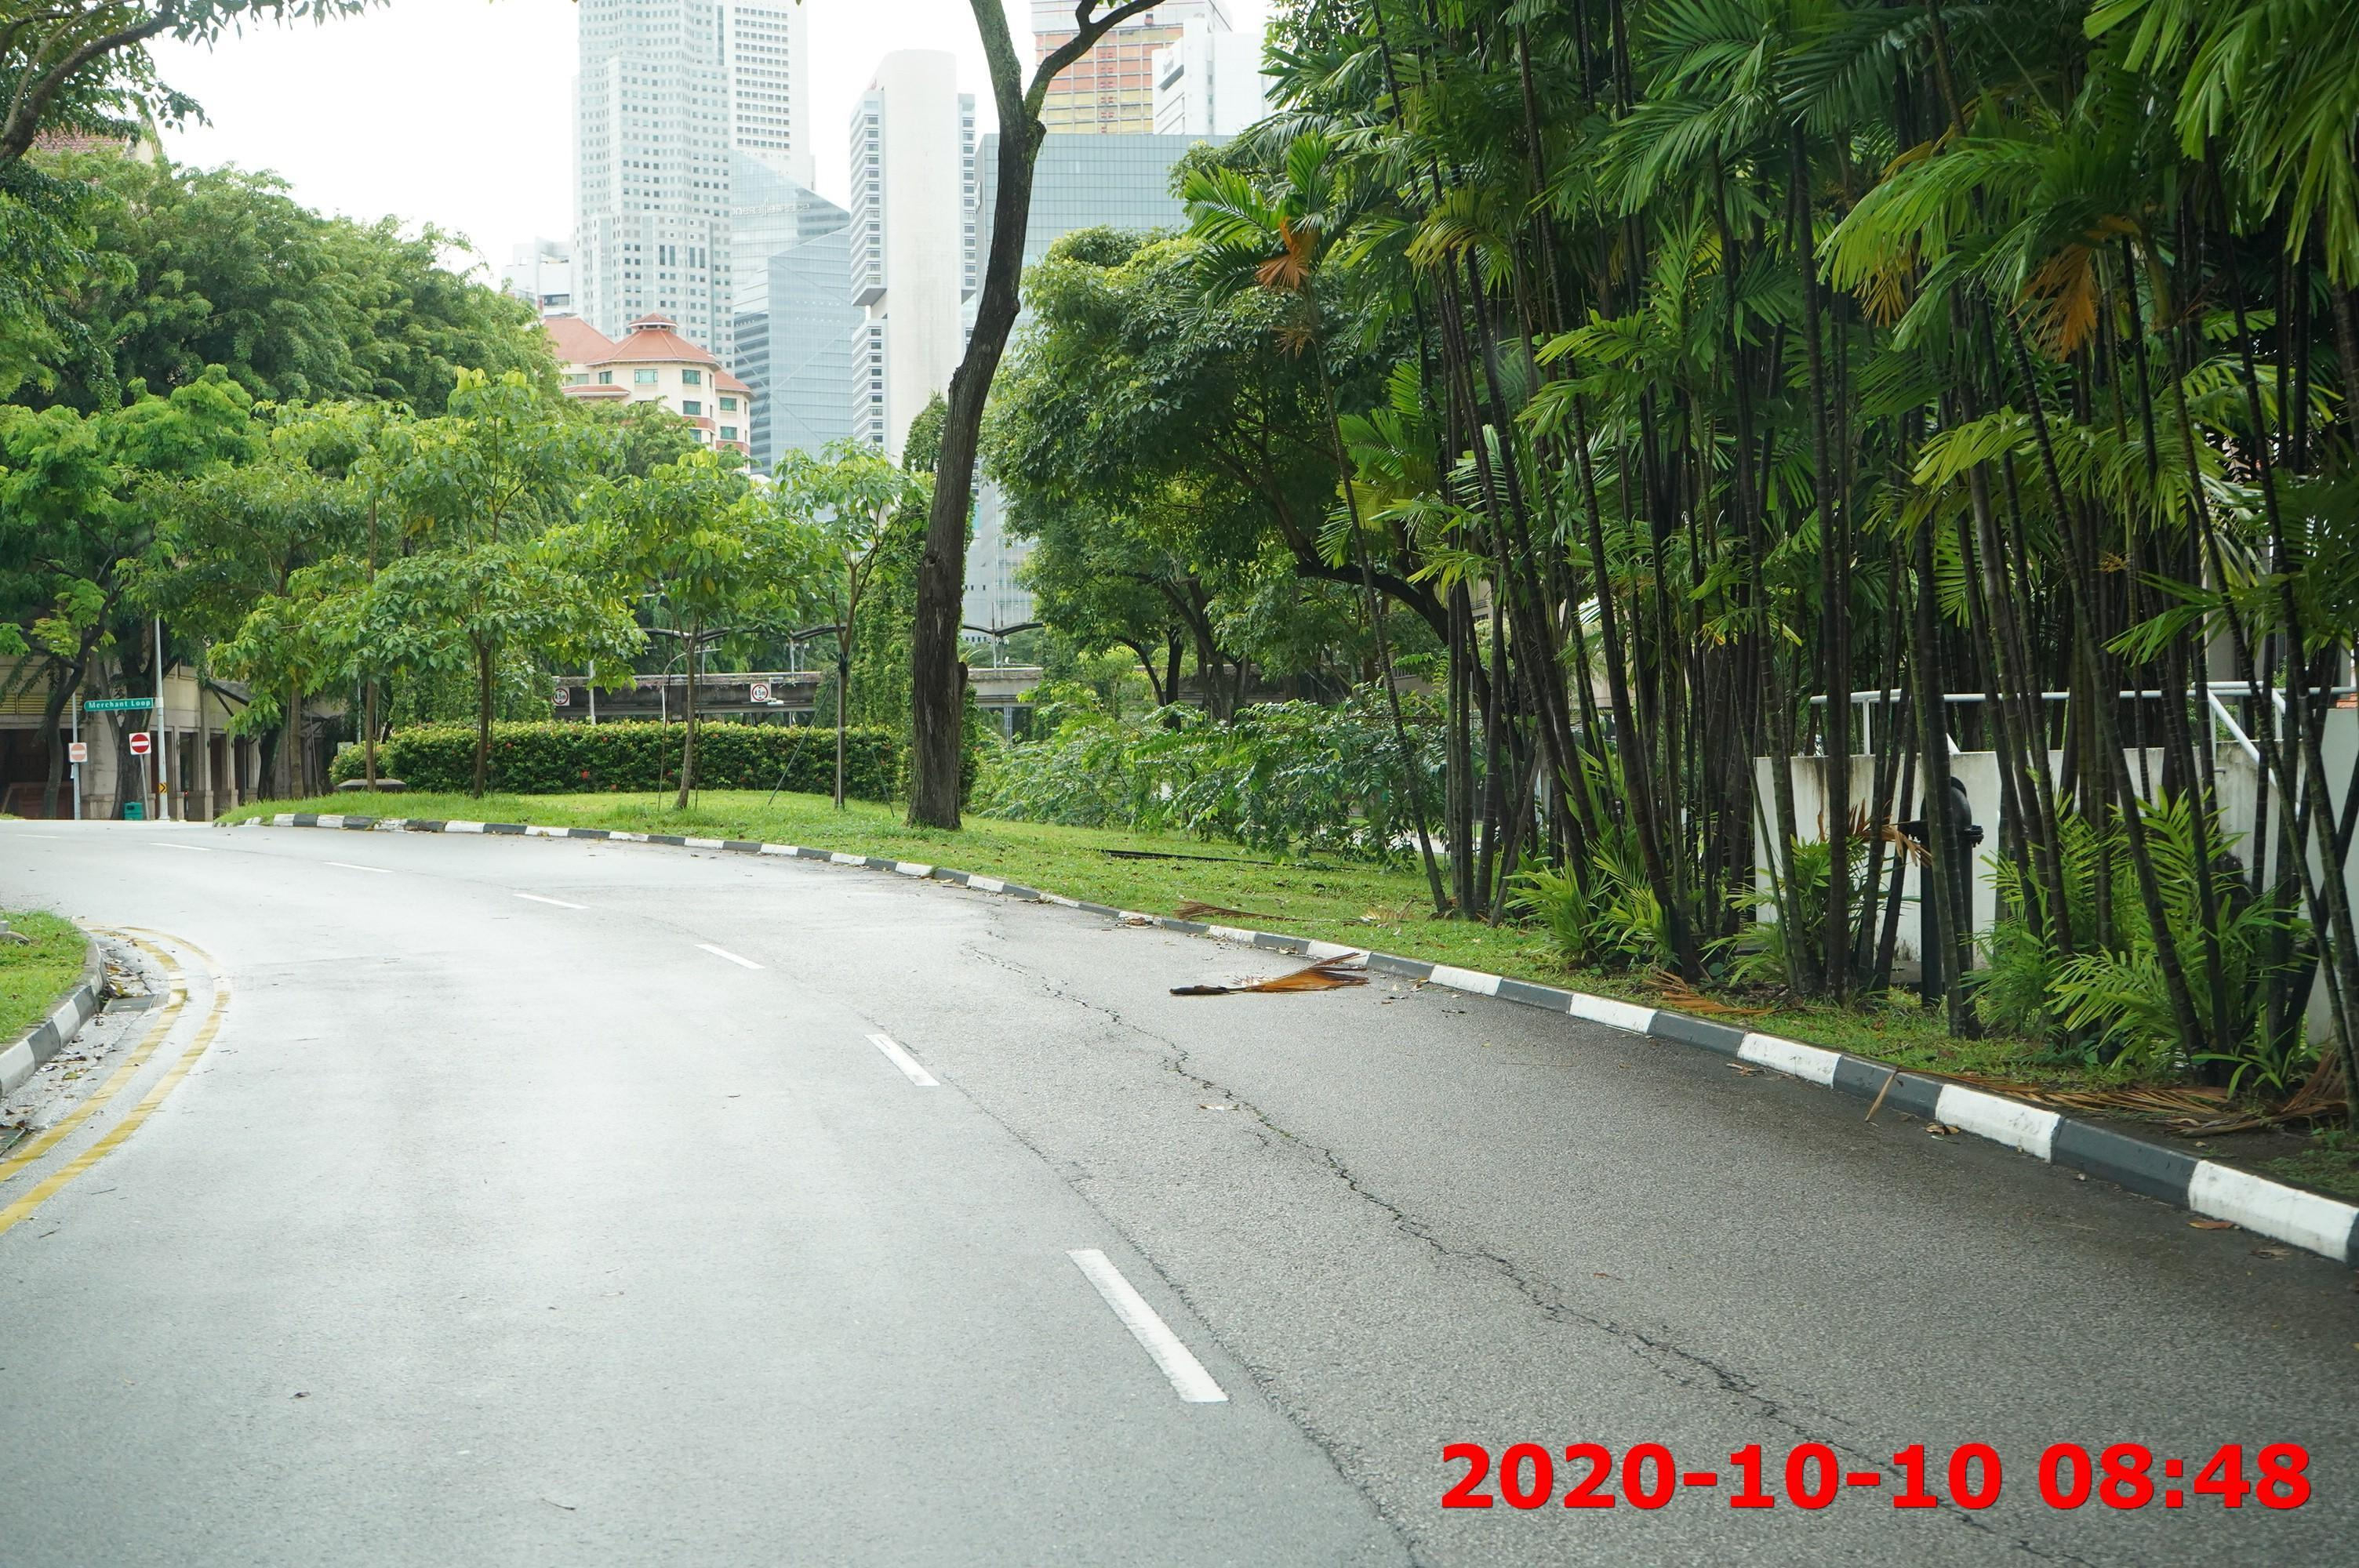single crack: (1062, 996, 1869, 1451)
